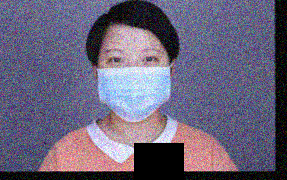with_mask: (94, 47, 173, 124)
